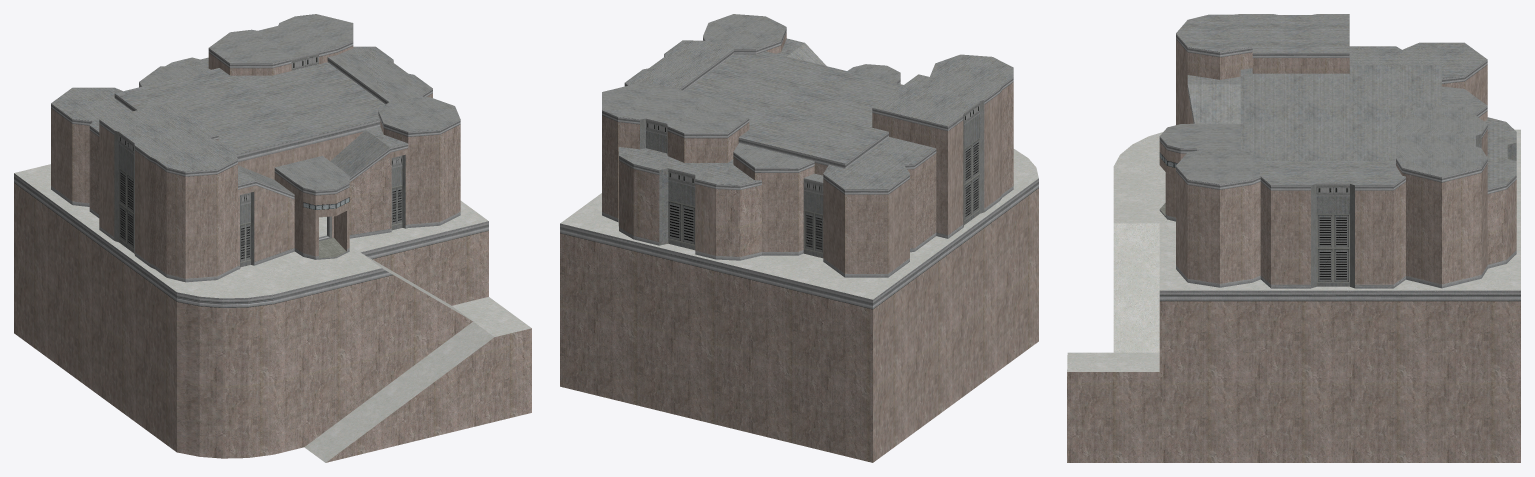
The model's file is ply_corl_house_lg_s01_fp1_r0_mesh_l2.fbx.
3 views of the same model, side by side, from view 1: azimuth 30°, elevation 25°; view 2: azimuth 150°, elevation 25°; view 3: azimuth 270°, elevation 25° (orthographic). The views are drawn at different scales.
Parts seen in each view (by area): view 1: mesh_node; view 2: mesh_node; view 3: mesh_node.
Boxes of the visible parts, box(x1,y1,x2,y2) form: mesh_node: box(14, 14, 531, 462); mesh_node: box(560, 14, 1038, 462); mesh_node: box(1067, 14, 1520, 462).
Bounding box in the file's own units: 33.08 × 27.88 × 39.4.
